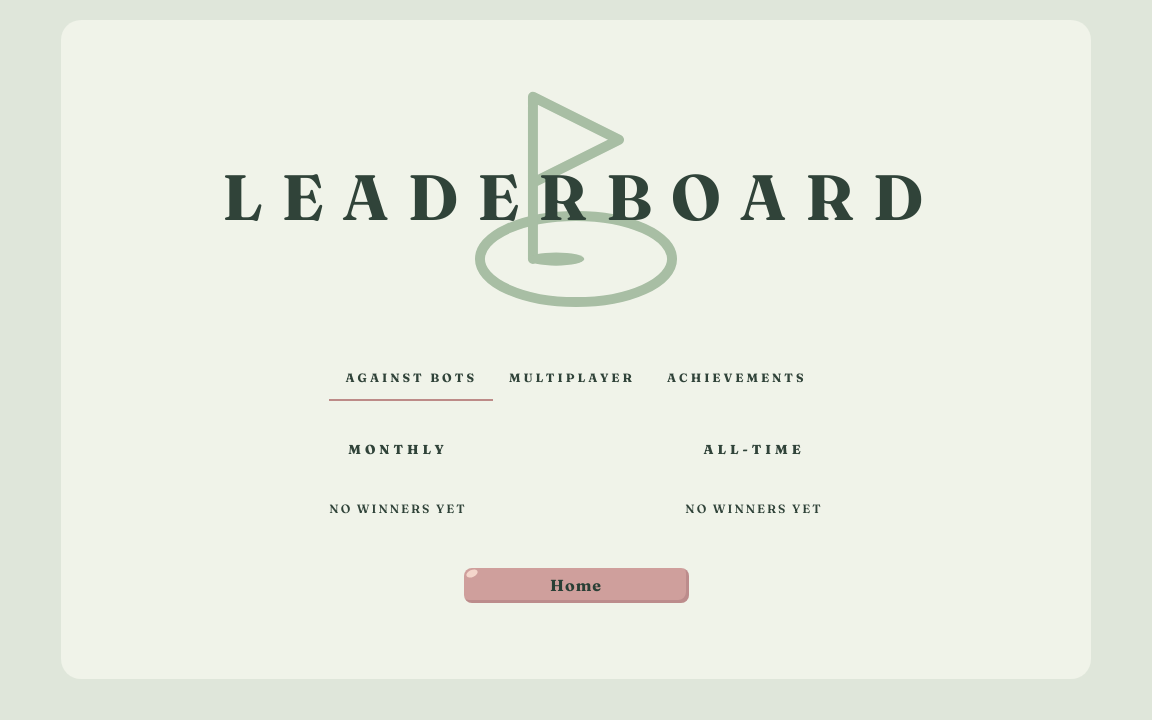
Test case: shows an achievement loading failure and retries
Click the button "Achievements": (737,379) x1=651 y1=357 x2=822 y2=401
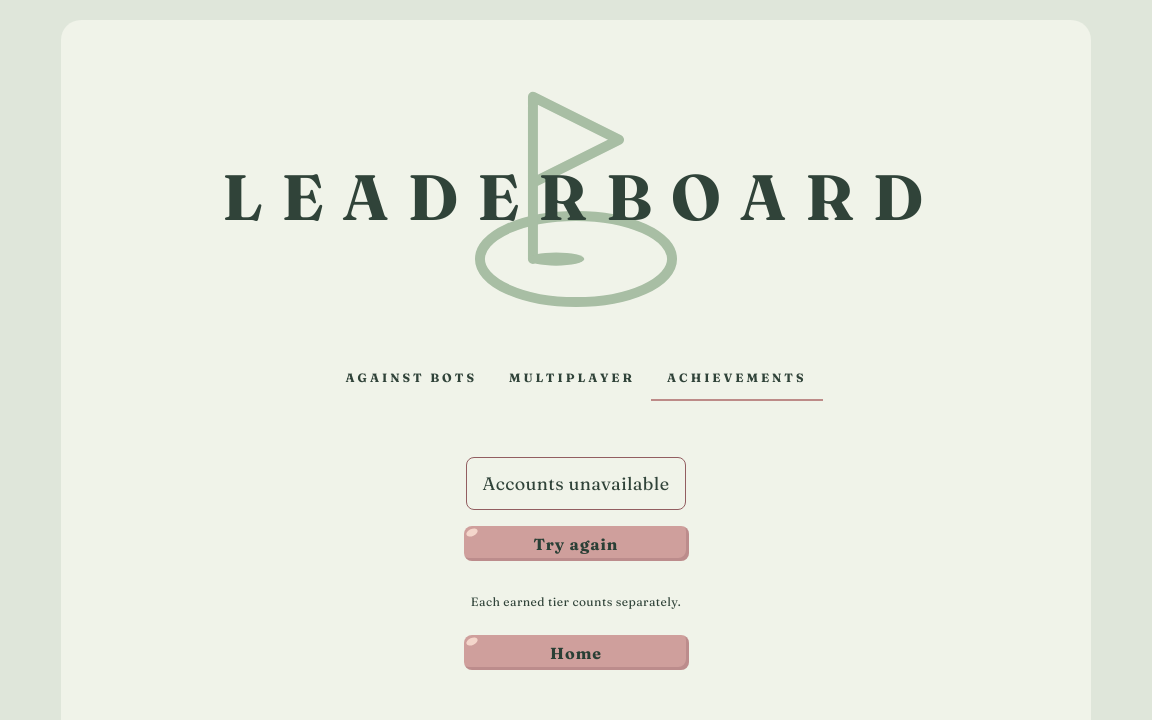
Expected: the message reads "Accounts unavailable", x1=482 y1=472 x2=669 y2=495
Click the button "Try again": (576,544) x1=464 y1=526 x2=688 y2=561
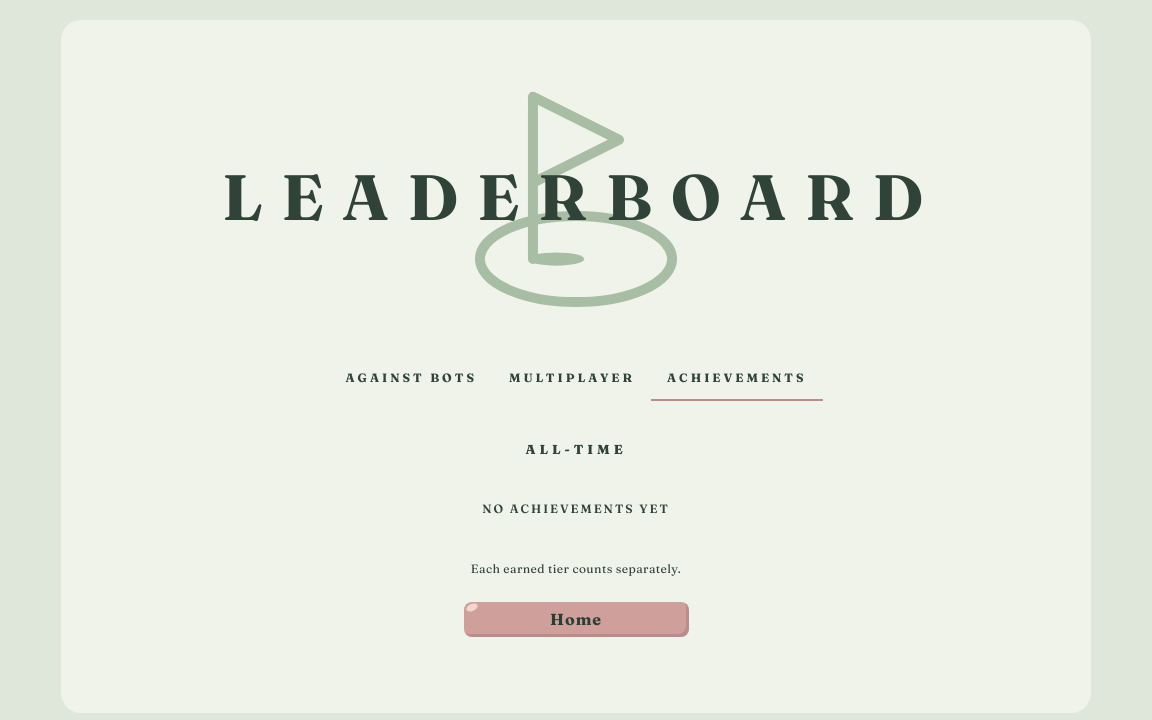
Expected: the text "No achievements yet" is shown, x1=356 y1=480 x2=796 y2=538
